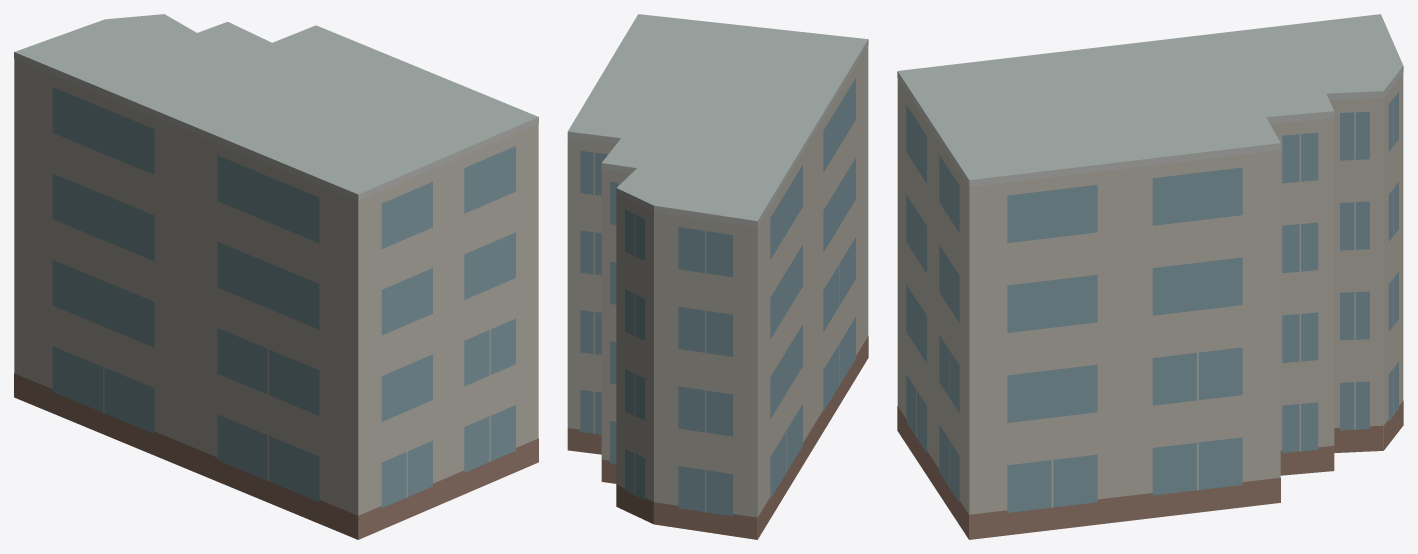
File: survey-upis-32512379.glb
3 renders of one model, left to right at view 1: azimuth 30°, elevation 25°; view 2: azimuth 150°, elevation 25°; view 3: azimuth 270°, elevation 25°, orthographic. The views are drawn at different scales.
Parts seen in each view (by area): view 1: survey-upis-32512379.tmp; view 2: survey-upis-32512379.tmp; view 3: survey-upis-32512379.tmp.
Part boxes in pixels (x1,y1,x2,y2): survey-upis-32512379.tmp: [14, 14, 538, 539]; survey-upis-32512379.tmp: [567, 14, 868, 539]; survey-upis-32512379.tmp: [897, 14, 1403, 539].
Size of the model in its own units: 12.59 by 12.7 by 16.2.
